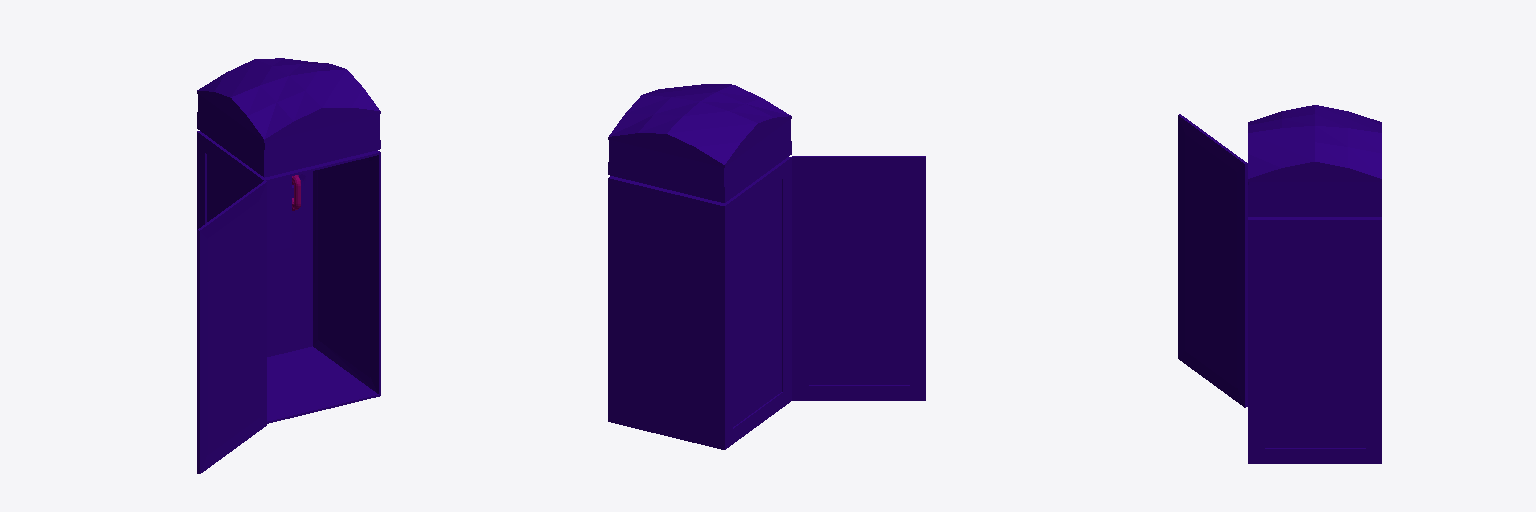
File: Revised_PhoneBooth_001.obj
3 renders of one model, left to right at view 1: azimuth 30°, elevation 25°; view 2: azimuth 150°, elevation 25°; view 3: azimuth 270°, elevation 25°, orthographic.
Parts seen in each view (by area): view 1: Phone_Booth_Body, Door, PhoneBox; view 2: Phone_Booth_Body, Door; view 3: Phone_Booth_Body, Door.
Boxes of the visible parts, <box> form: Phone_Booth_Body: <box>197,58,380,423</box>; Door: <box>197,181,266,473</box>; PhoneBox: <box>267,174,305,252</box>; Phone_Booth_Body: <box>608,84,791,449</box>; Door: <box>792,156,925,400</box>; Phone_Booth_Body: <box>1248,105,1381,463</box>; Door: <box>1178,114,1247,407</box>.
Size of the model in its own units: 74.64 by 102 by 60.87.